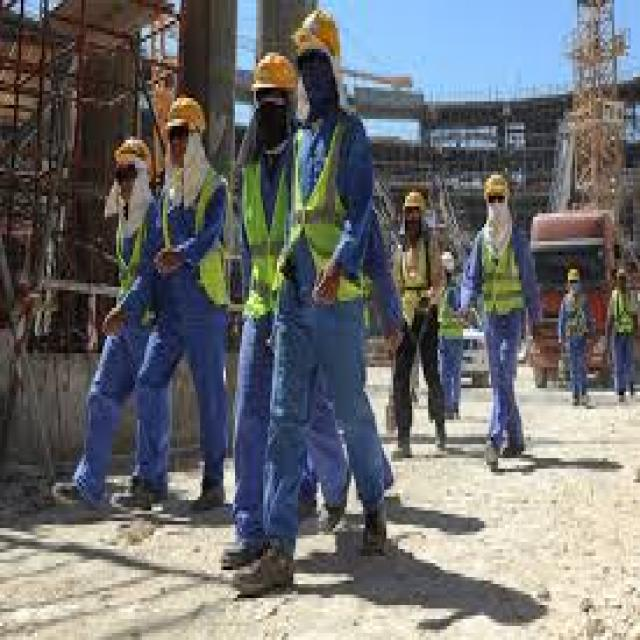Reflective-Jacket: (284, 116, 372, 304), (475, 220, 528, 322)
Safety-Helmet: (288, 3, 344, 63), (163, 91, 212, 140), (247, 49, 300, 94), (479, 168, 510, 203)
